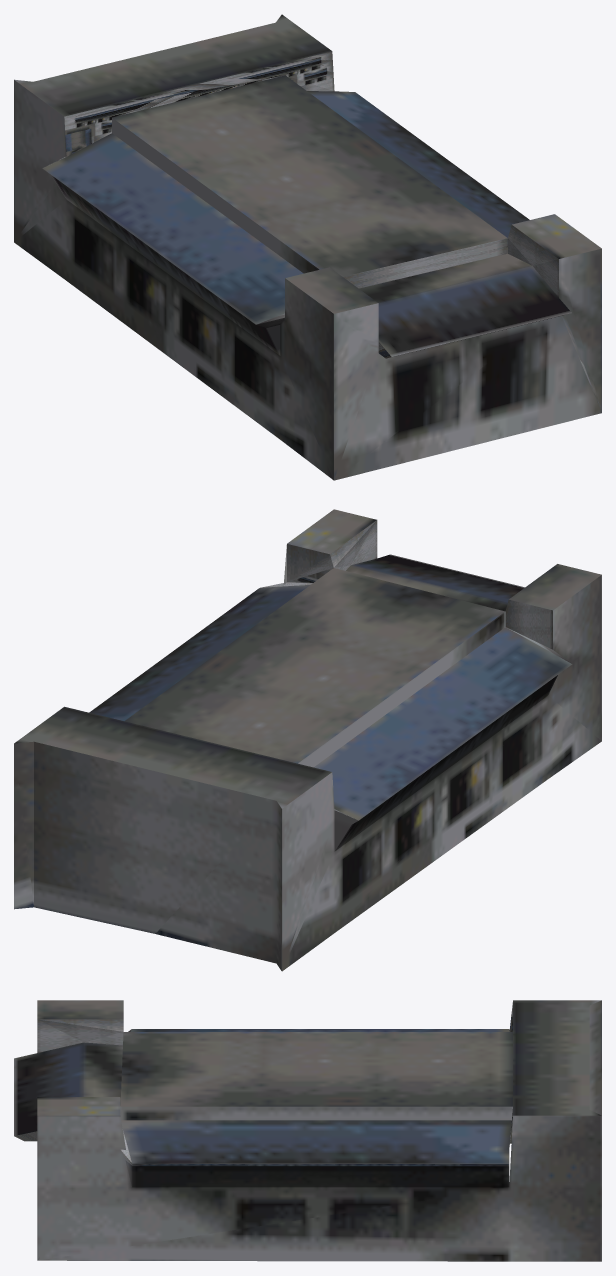
The model's file is lodwrehse18.obj.
3 renders of one model, top to bottom at view 1: azimuth 30°, elevation 25°; view 2: azimuth 150°, elevation 25°; view 3: azimuth 270°, elevation 25°, orthographic. The views are drawn at different scales.
Visible parts, largest first — view 1: lodwrehse18; view 2: lodwrehse18; view 3: lodwrehse18.
Part boxes in pixels (x1,y1,x2,y2): lodwrehse18: (14,14,601,480); lodwrehse18: (14,509,601,971); lodwrehse18: (14,1000,601,1261).
Bounding box in the file's own units: 26.92 × 13.7 × 49.64.
1 material, 1 textured.
